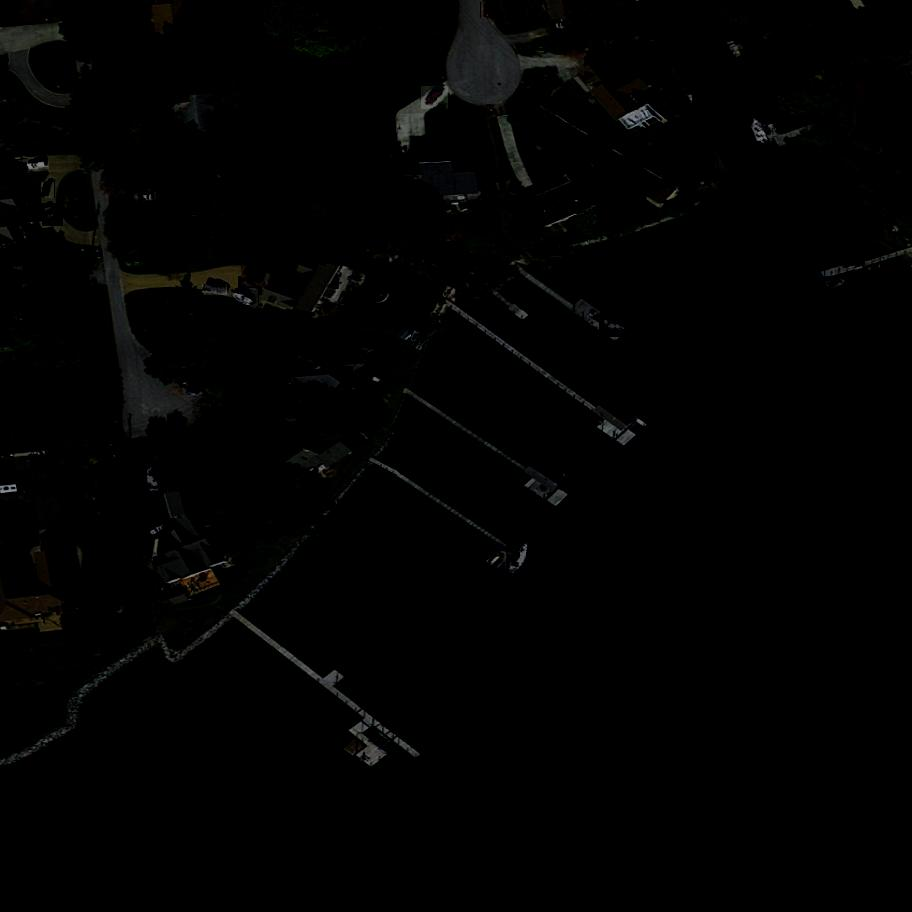ship: (507, 536, 536, 580), (600, 313, 631, 339), (748, 114, 772, 147), (229, 288, 259, 309), (141, 466, 162, 495), (823, 276, 853, 296), (692, 87, 711, 110), (354, 427, 374, 448)
small-vehicle: (421, 85, 448, 113), (42, 203, 63, 229), (238, 276, 262, 298), (241, 265, 265, 287), (147, 522, 171, 539), (552, 21, 578, 35), (132, 192, 157, 205), (31, 456, 47, 475), (202, 284, 228, 295), (481, 2, 497, 19), (41, 181, 55, 200), (411, 327, 424, 345), (26, 162, 49, 172), (371, 374, 385, 388), (35, 277, 57, 283)
